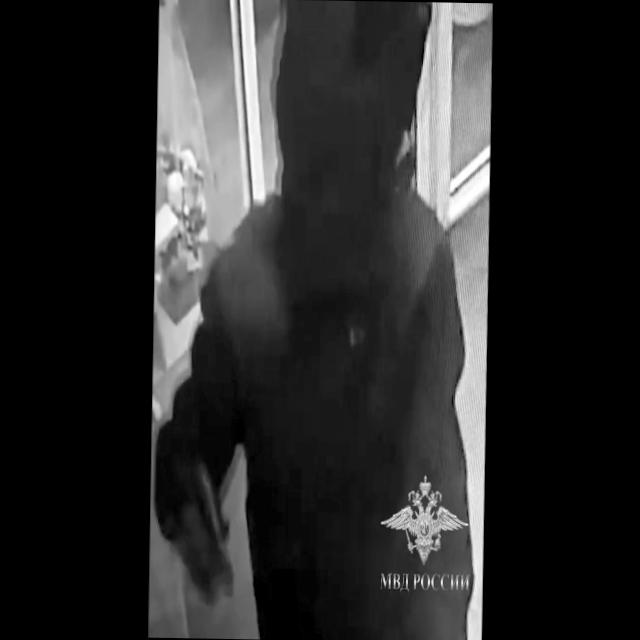gun: (188, 449, 244, 592)
person with a gun: (158, 0, 469, 640)
